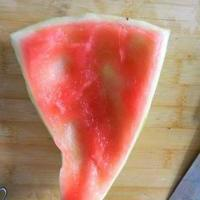biodegradable: (8, 12, 171, 200)
